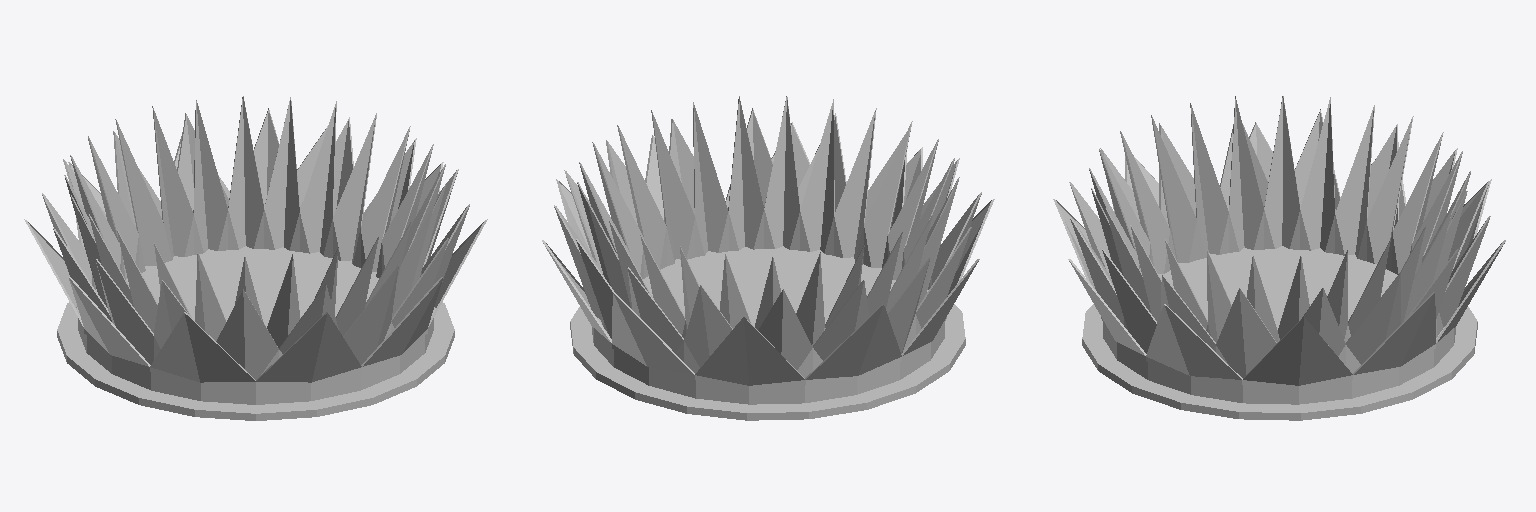
Rendered from portal_000014.obj.
3 views of the same model, side by side, from view 1: azimuth 30°, elevation 25°; view 2: azimuth 150°, elevation 25°; view 3: azimuth 270°, elevation 25° (orthographic).
Visible parts, largest first — view 1: Cylinder.001, pCylinder1, Cylinder; view 2: Cylinder.001, pCylinder1, Cylinder; view 3: Cylinder.001, pCylinder1, Cylinder.
Part boxes in pixels (left/top/right/bottom): Cylinder.001: left=64, top=96, right=445, bottom=347; pCylinder1: left=24, top=126, right=487, bottom=420; Cylinder: left=42, top=108, right=469, bottom=379; Cylinder.001: left=577, top=96, right=959, bottom=346; pCylinder1: left=542, top=122, right=994, bottom=420; Cylinder: left=554, top=108, right=981, bottom=377; Cylinder.001: left=1089, top=96, right=1470, bottom=343; pCylinder1: left=1053, top=122, right=1505, bottom=420; Cylinder: left=1069, top=109, right=1490, bottom=377.
Size of the model in its own units: 7.41 by 2.9 by 7.29.